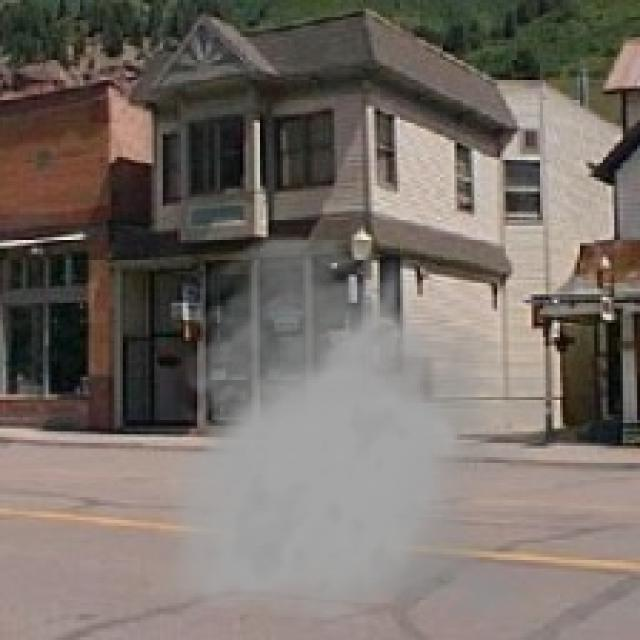Smoke: (148, 228, 558, 634)
